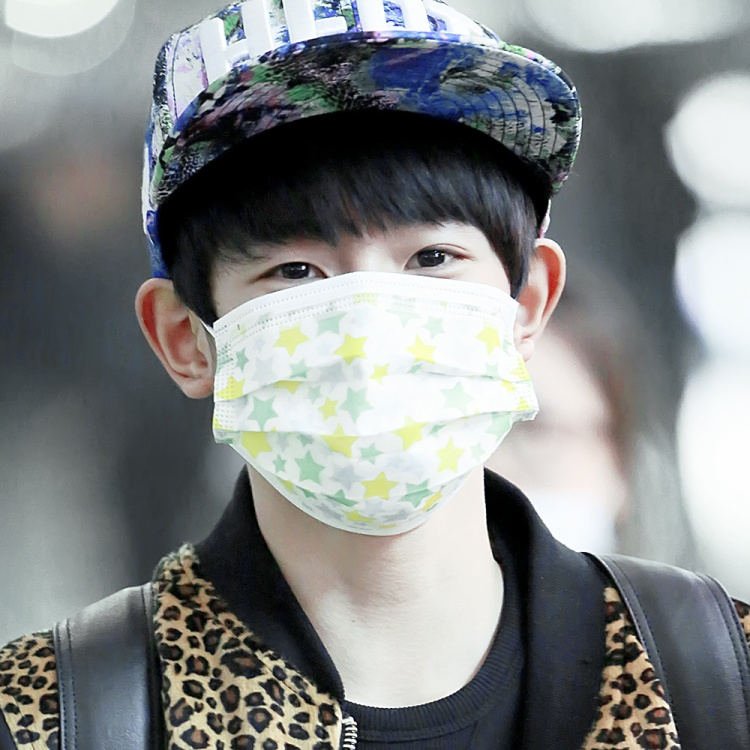face_mask: (220, 127, 511, 489)
